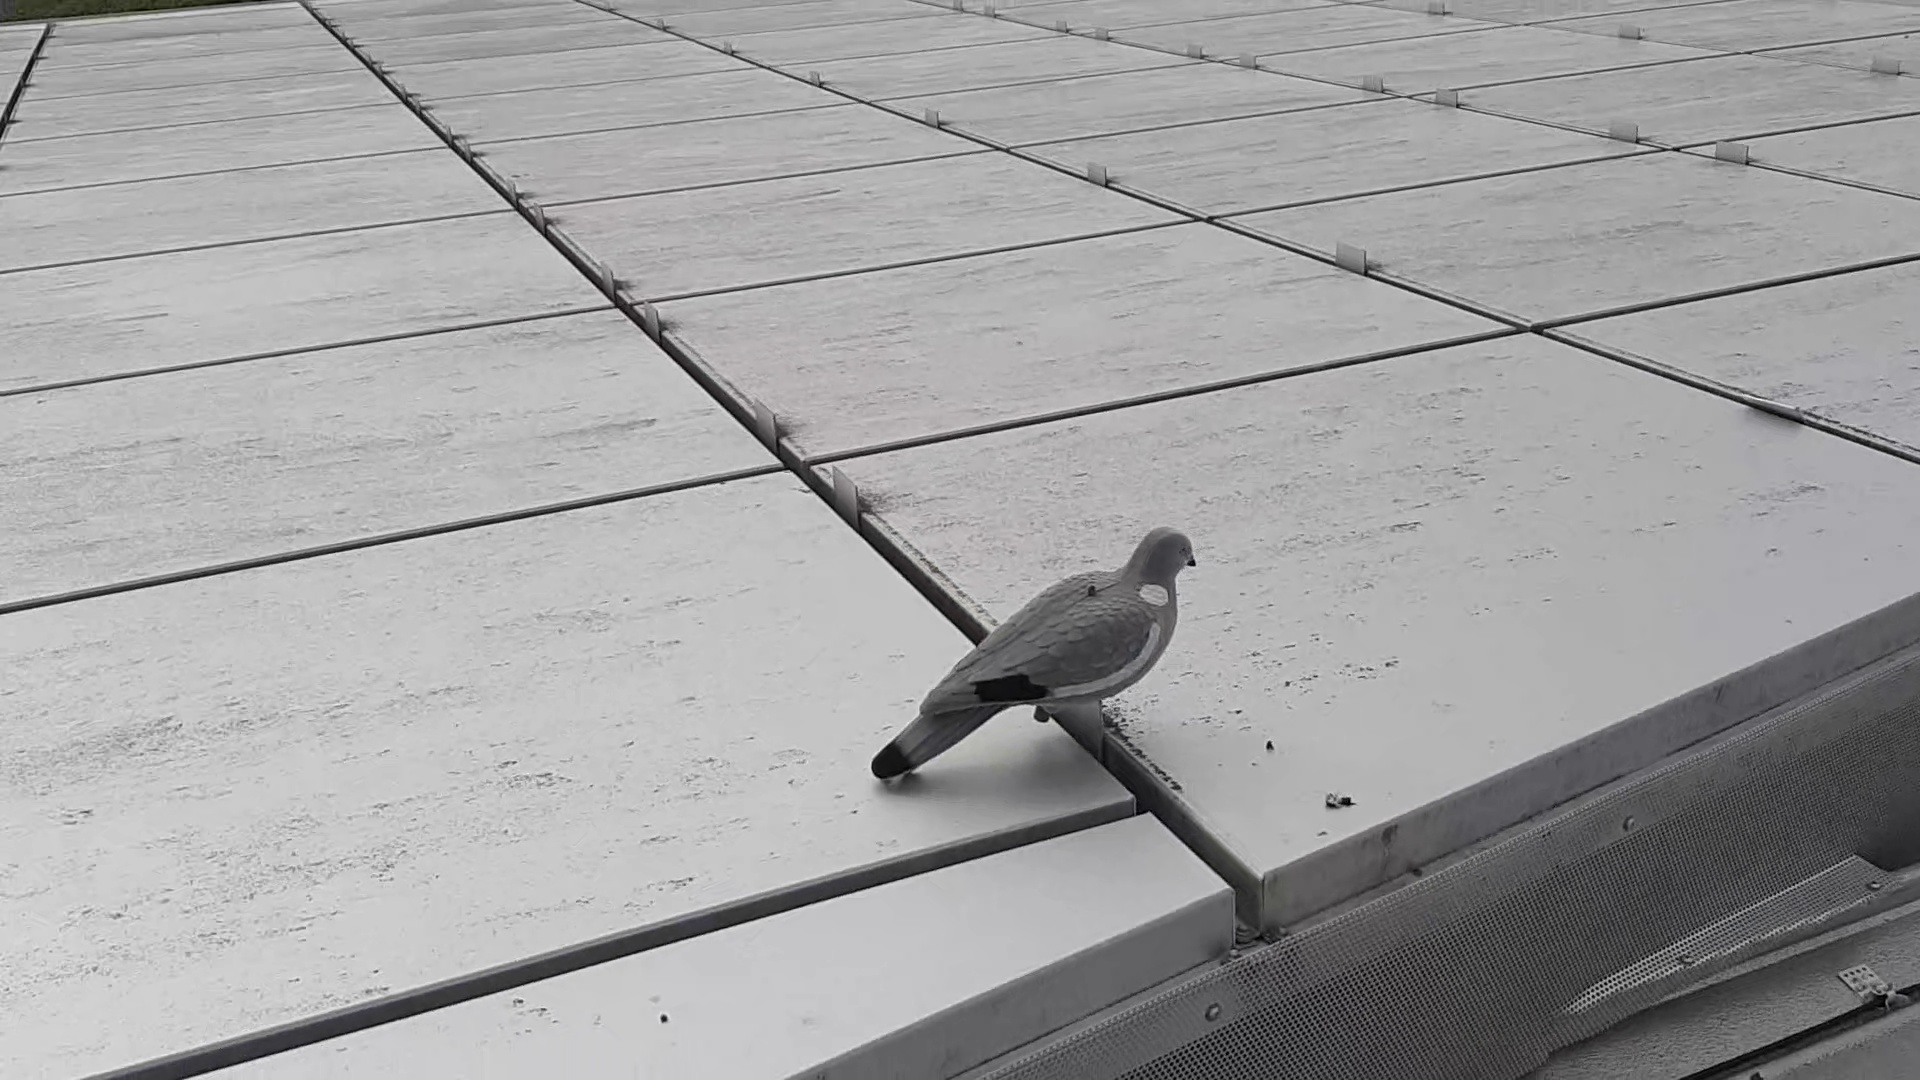Pigeon: (868, 516, 1203, 787)
